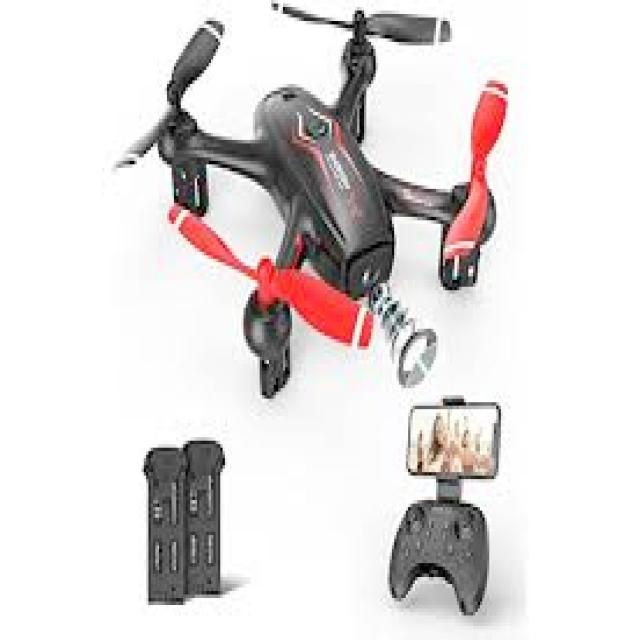drone: (106, 0, 540, 426)
